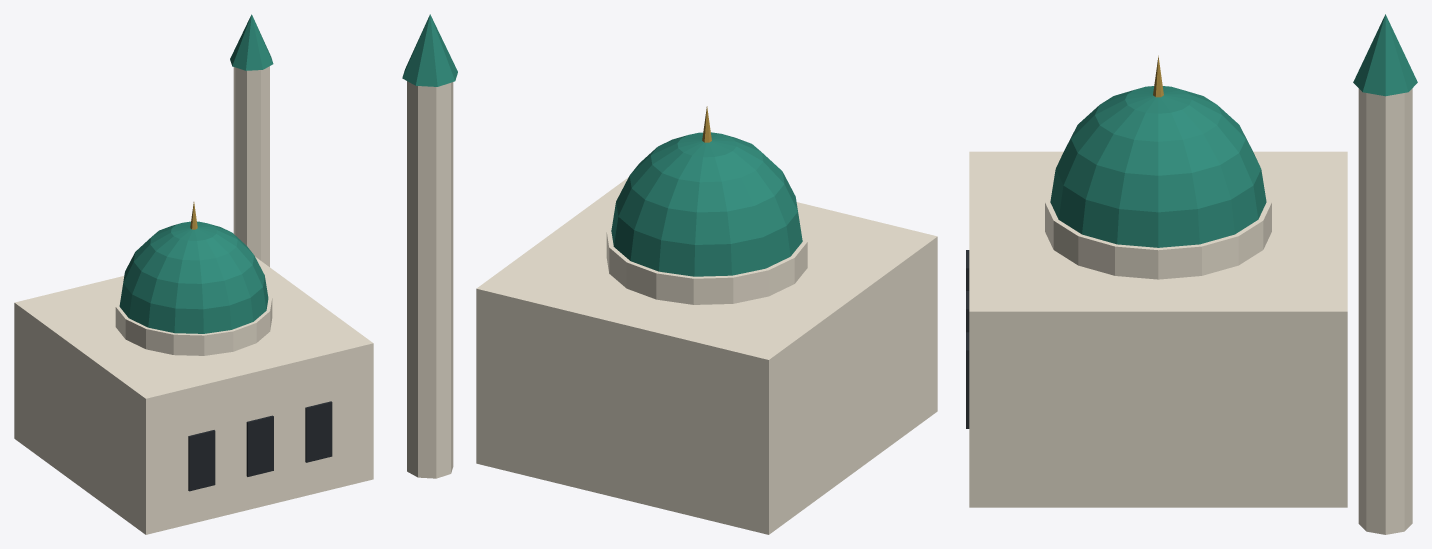
The model's file is mosque.glb.
3 views of the same model, side by side, from view 1: azimuth 30°, elevation 25°; view 2: azimuth 150°, elevation 25°; view 3: azimuth 270°, elevation 25° (orthographic). The views are drawn at different scales.
Visible parts, largest first — view 1: CLMosque; view 2: CLMosque; view 3: CLMosque.
Boxes of the visible parts, x1,y1,x2,y2 form: CLMosque: (14,14,373,534); CLMosque: (402,14,937,534); CLMosque: (966,14,1417,534).
Size of the model in its own units: 0.83 by 1.04 by 0.836.
